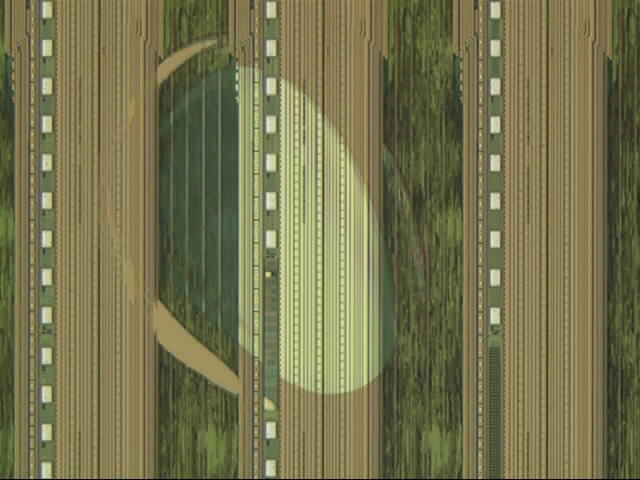BLOCK ETCH: (90, 32, 438, 421)
